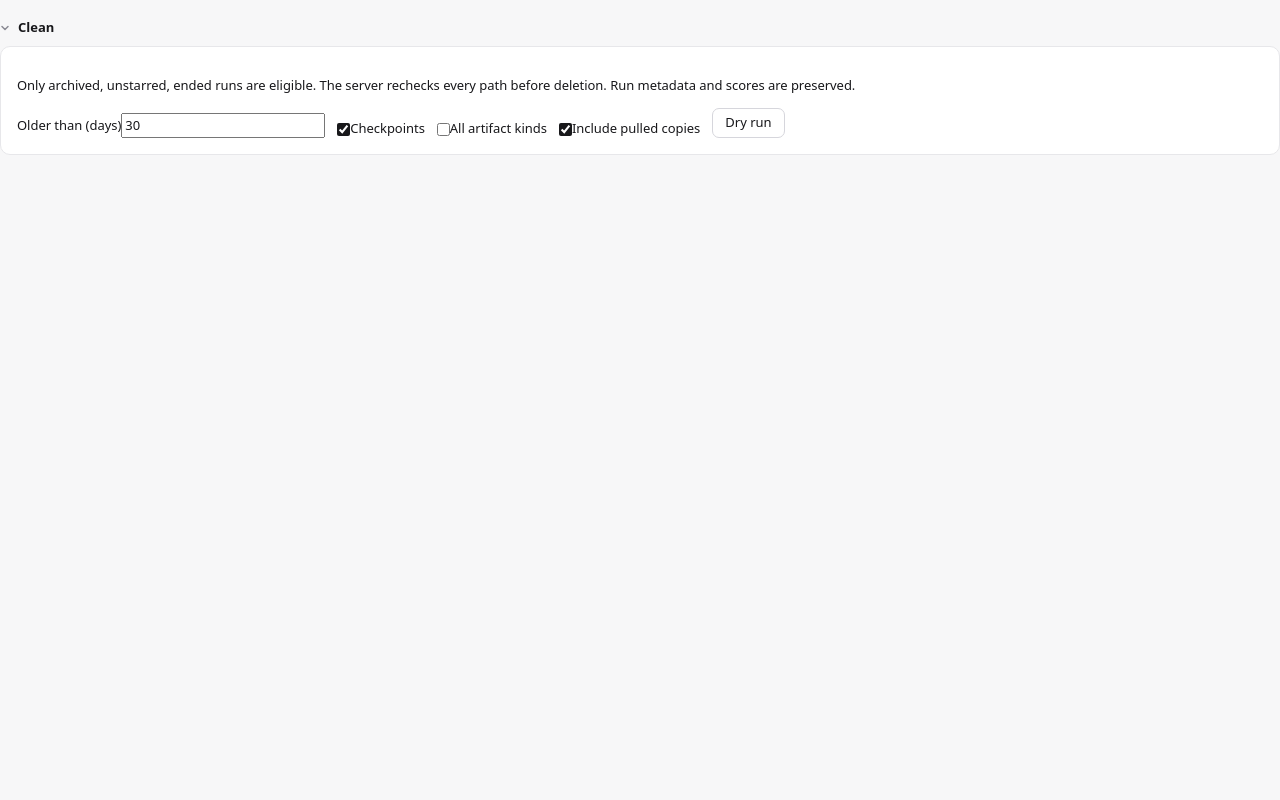
exact bytes gate, frozen plan and partial response
Expected: the button "Apply" is not shown
Click the button "Dry run" at (748, 123), box [712,108,785,138]
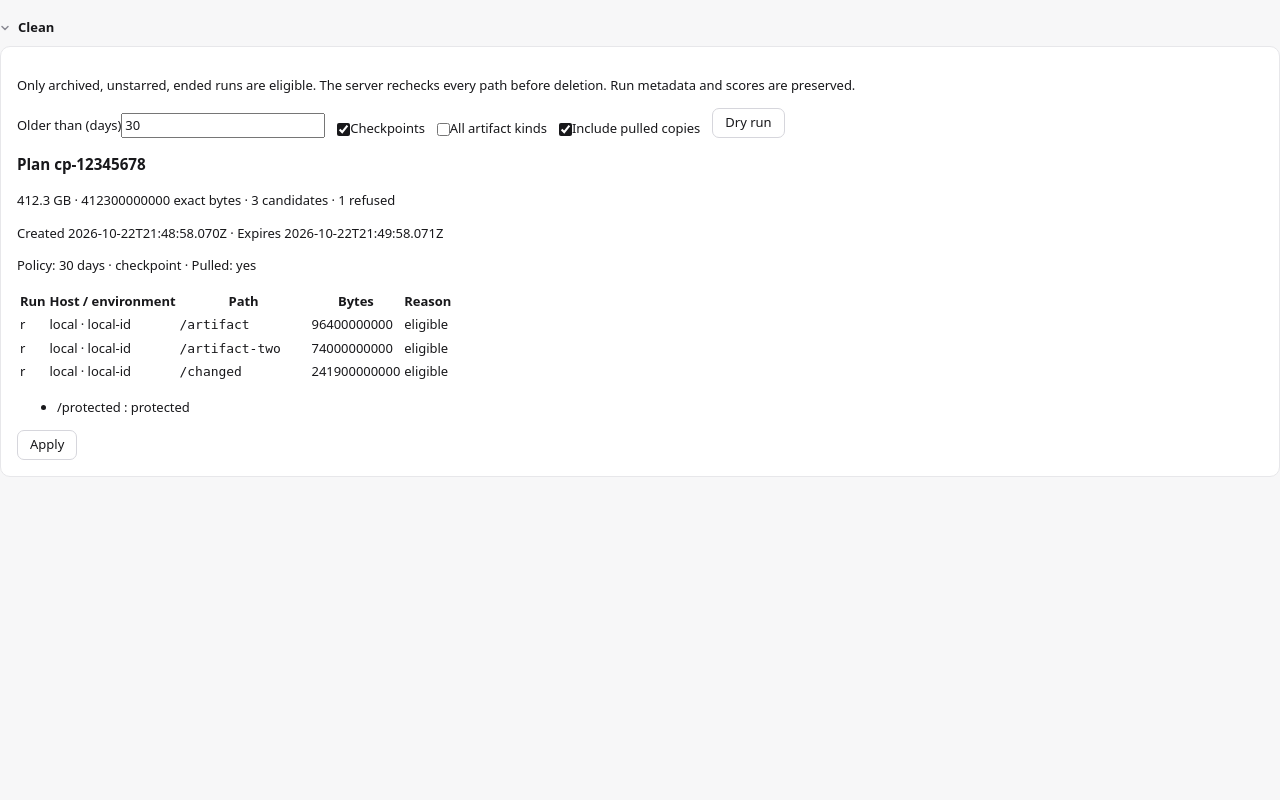
Click the button "Apply" at (47, 445), box [17,430,77,460]
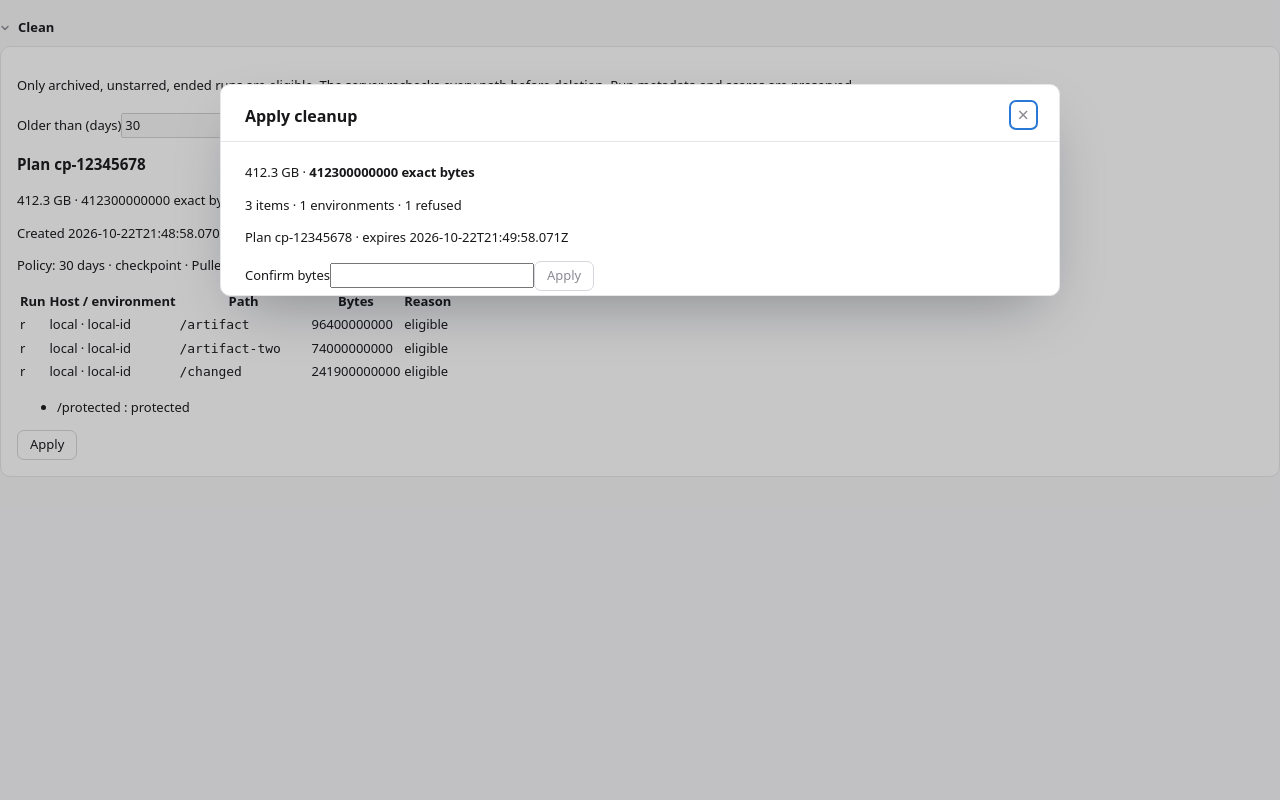
Type "412.3" into the field labelled "Confirm bytes" at (432, 276), box [330,263,534,288]
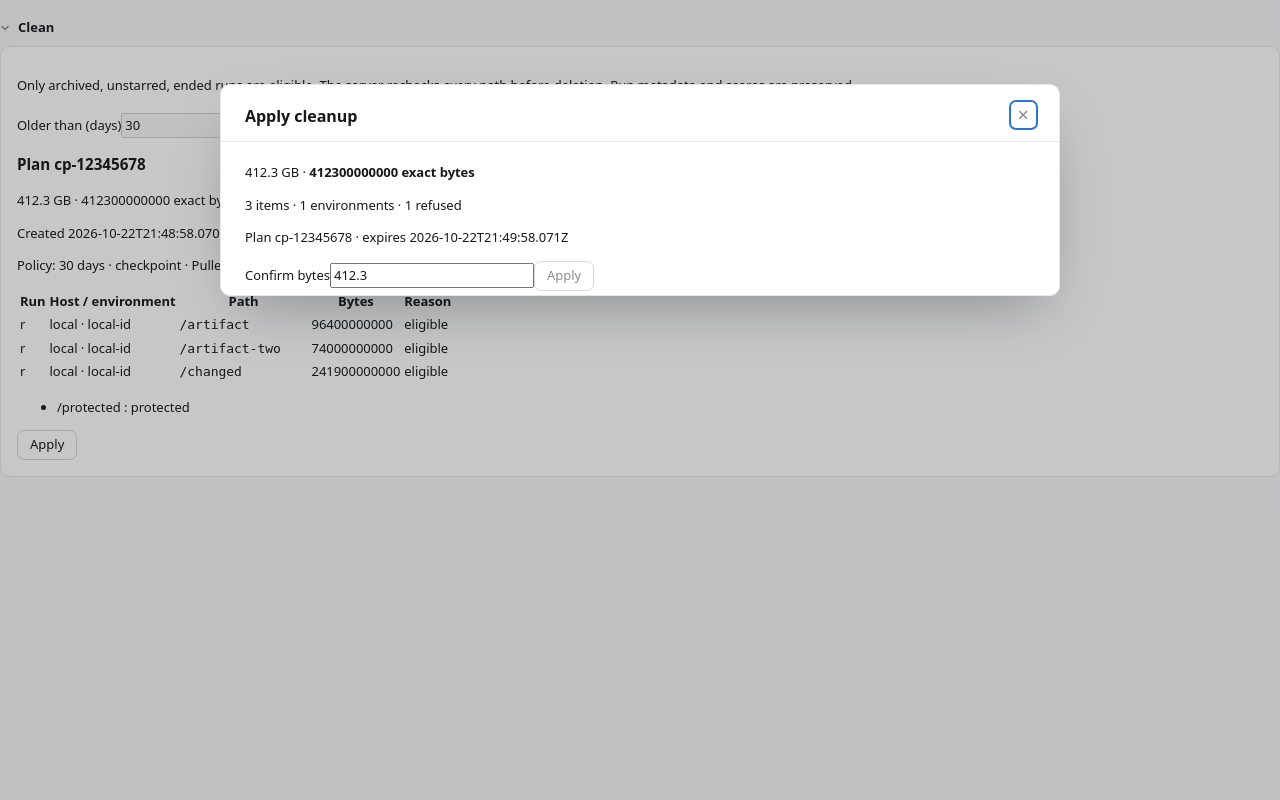
Expected: the button "Apply" is disabled, [534,260,594,290]
Replace the text in the field labelled "Confirm bytes" with "412300000000" at (432, 276), box [330,263,534,288]
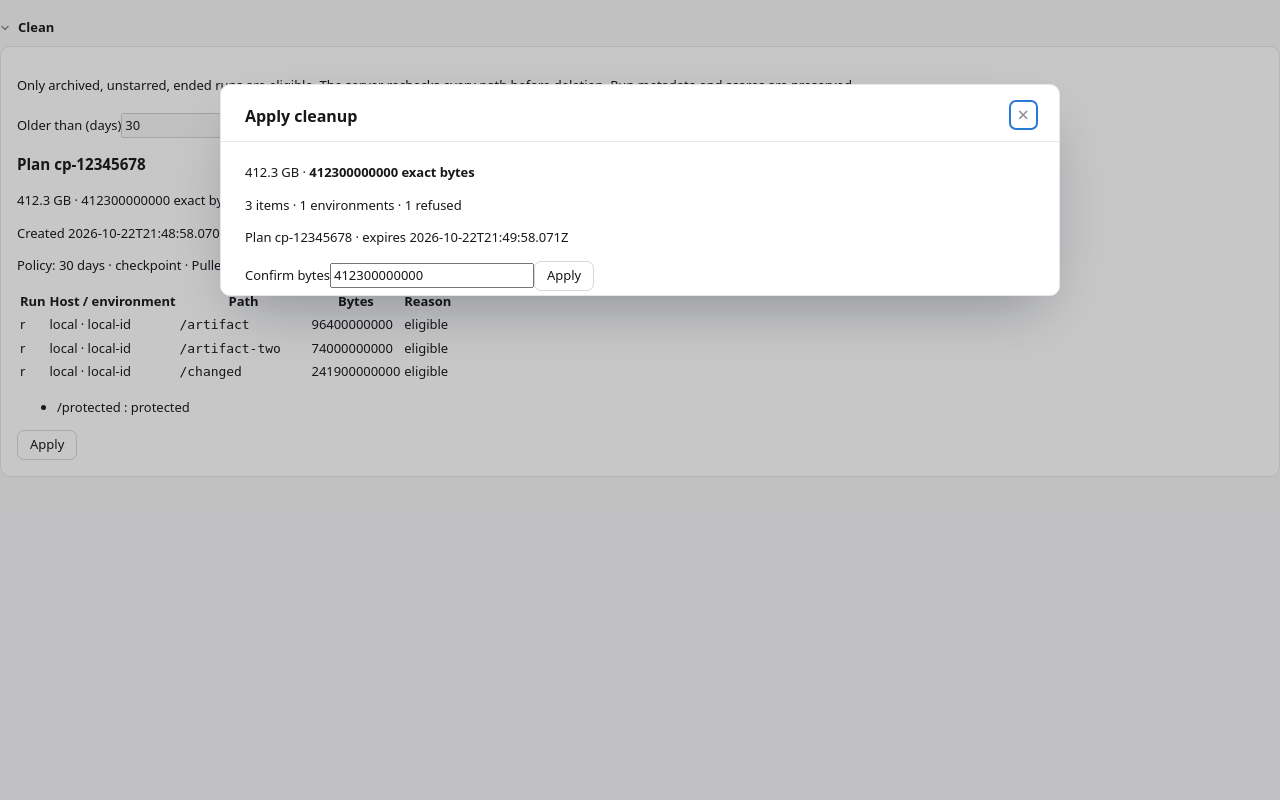
Click the button "Apply" at (564, 276), box [534,260,594,290]
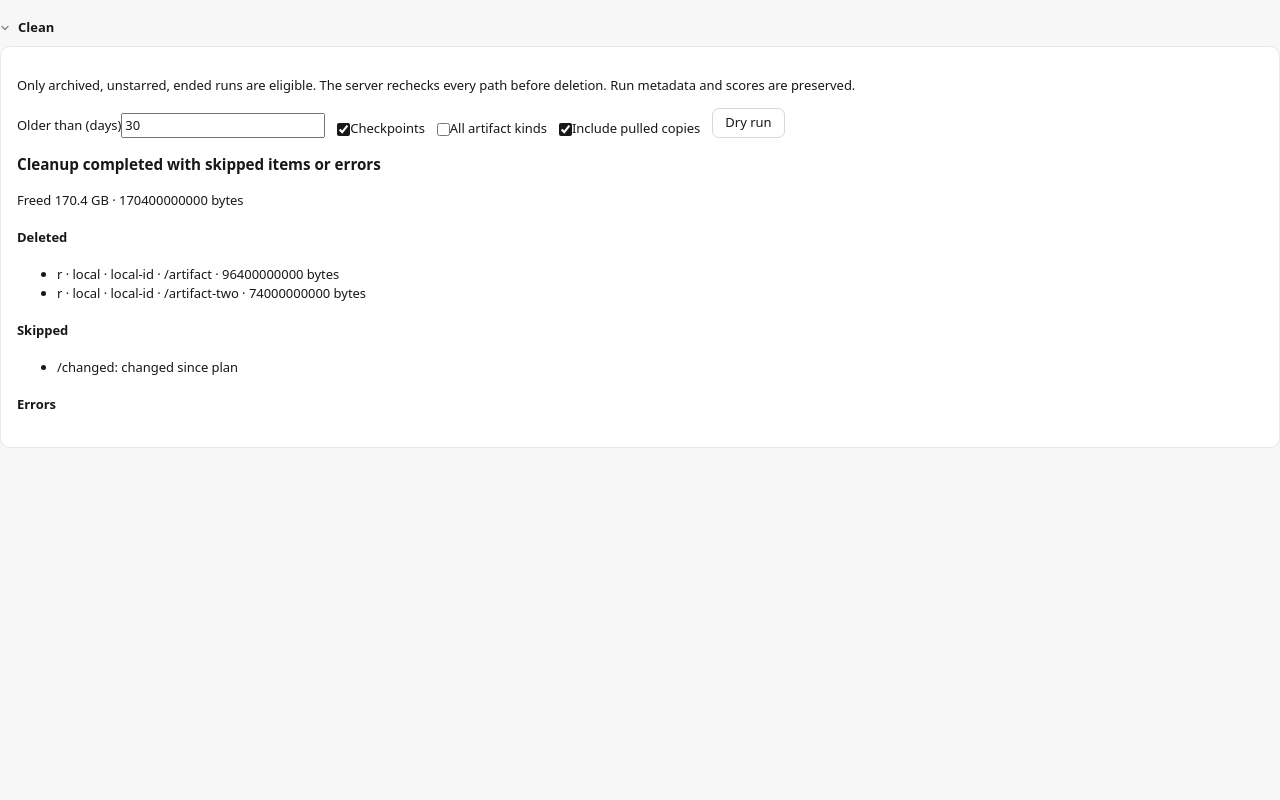
Expected: the text "Freed 170.4 GB · 170400000000 bytes" is shown, [17,191,244,209]
Expected: the list item "/changed: changed since plan" is shown, [57,358,238,376]
